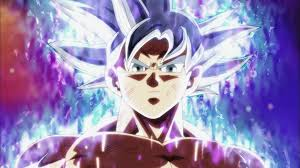Songoku: (52, 3, 253, 121)
